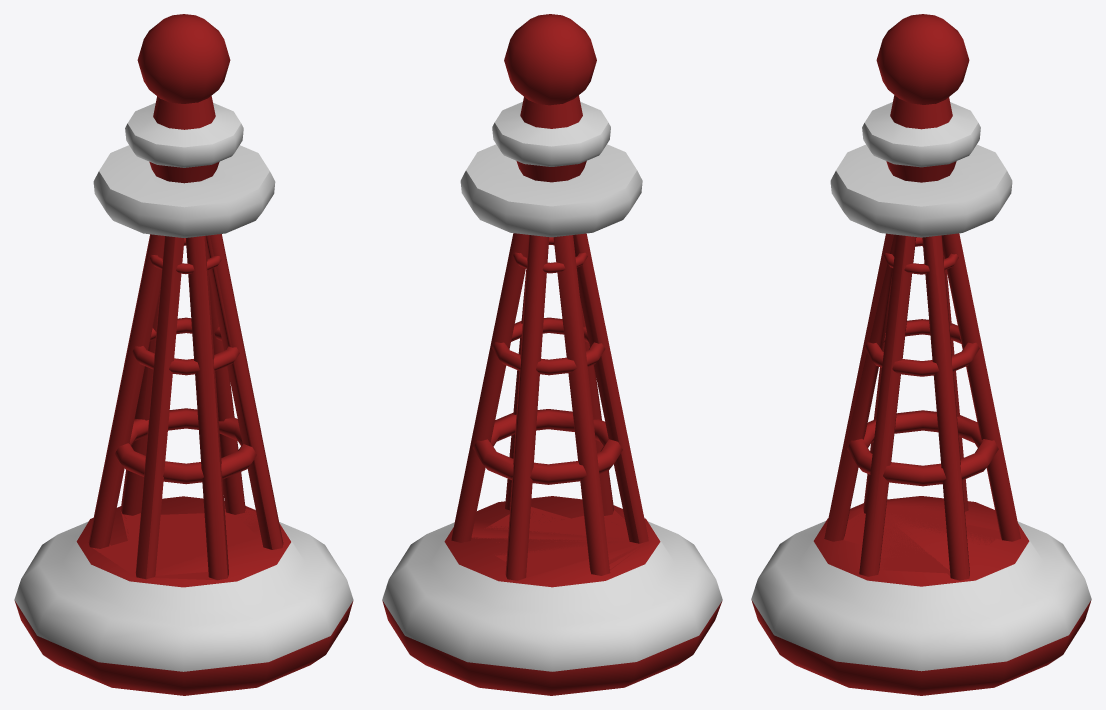
File: Adorno_Boya.FBX
The picture shows the model from 3 angles, left to right: view 1: azimuth 30°, elevation 25°; view 2: azimuth 150°, elevation 25°; view 3: azimuth 270°, elevation 25°; orthographic projection.
Visible parts, largest first — view 1: Plane003; view 2: Plane003; view 3: Plane003.
Boxes of the visible parts, bbox=[...] form: Plane003: bbox=[14, 14, 353, 695]; Plane003: bbox=[382, 14, 722, 695]; Plane003: bbox=[751, 14, 1091, 695].
Size of the model in its own units: 33.05 by 66.55 by 33.15.
